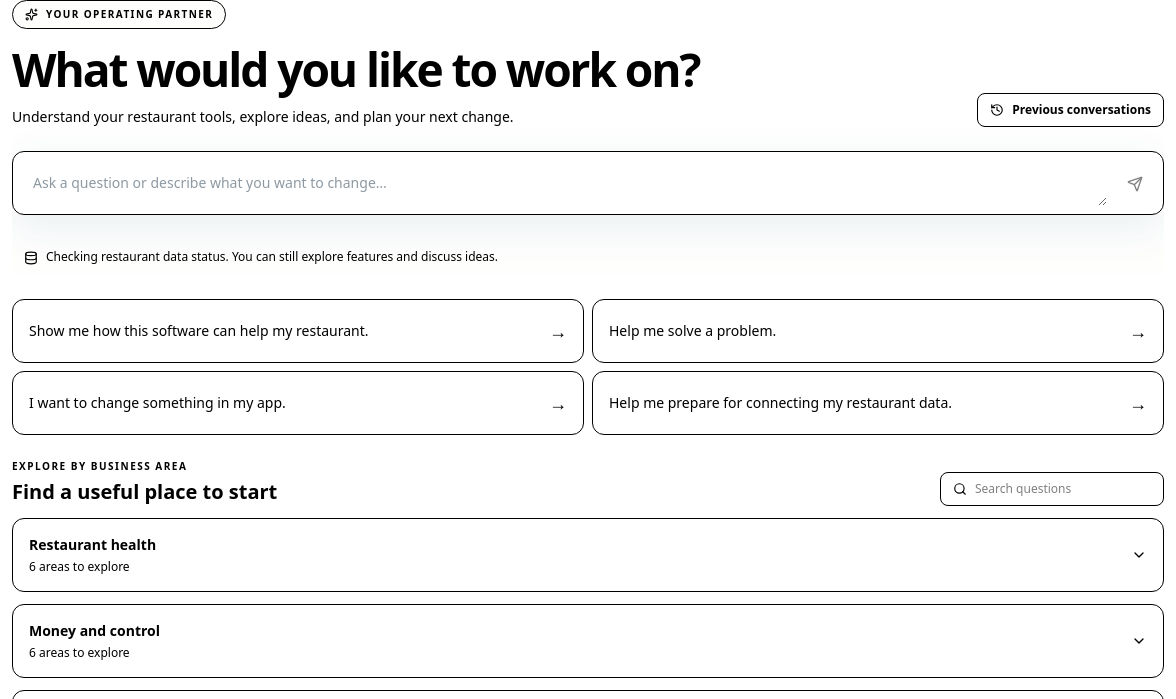
Test case: owner OS without restaurant data › keeps the draft and retries the same turn without duplicating it
Type "Which ingredients are running low?" into the text box named "Ask or describe a change". click: (564, 183)
box: [21,160,1107,206]
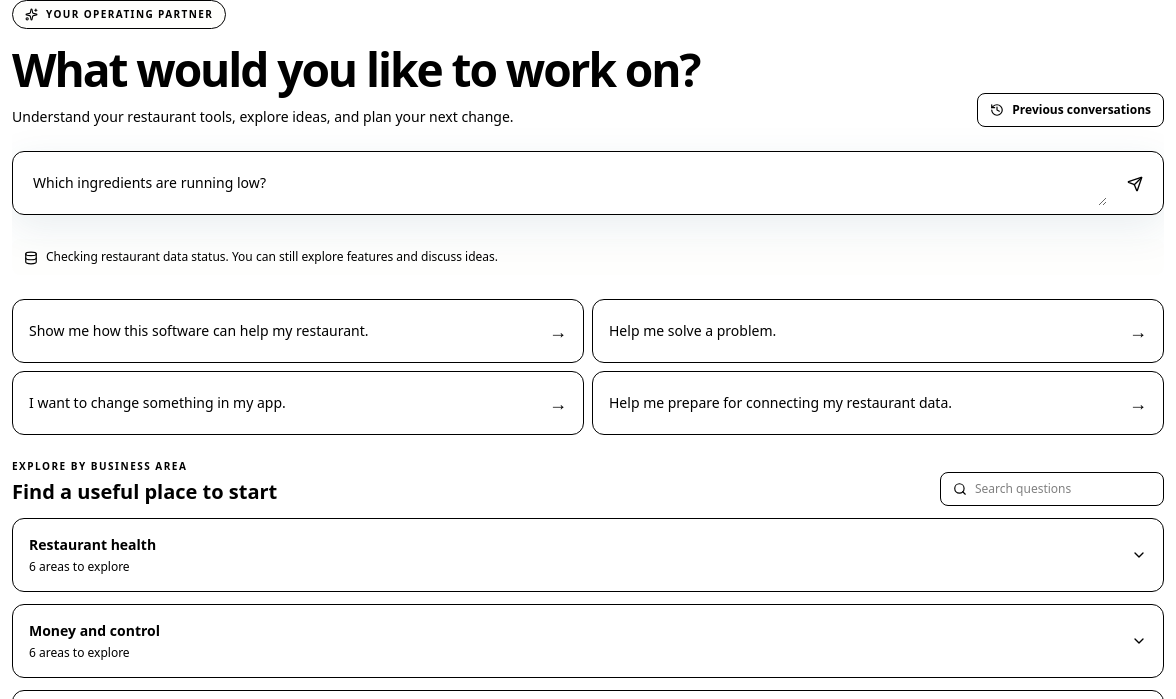
Click the button named "Send question". click: (1135, 184)
box: [1115,164,1155,204]
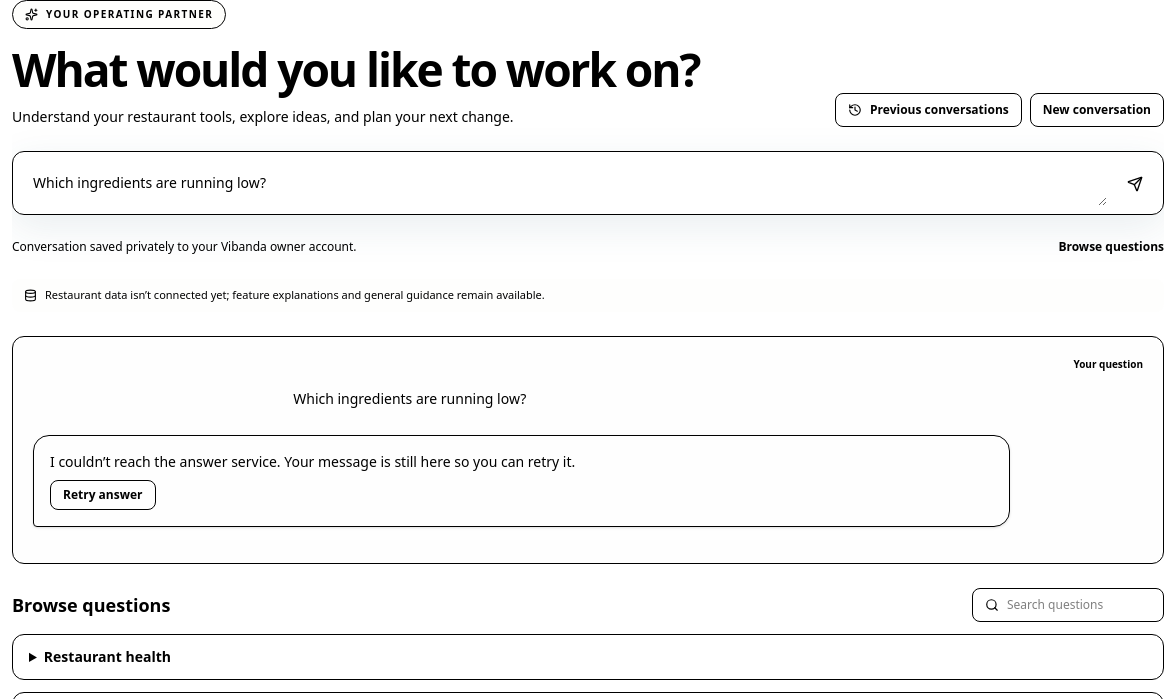
Expected: the button "Retry answer" is shown
Click the button "Retry answer". click: (103, 495)
box: [50,480,156,510]
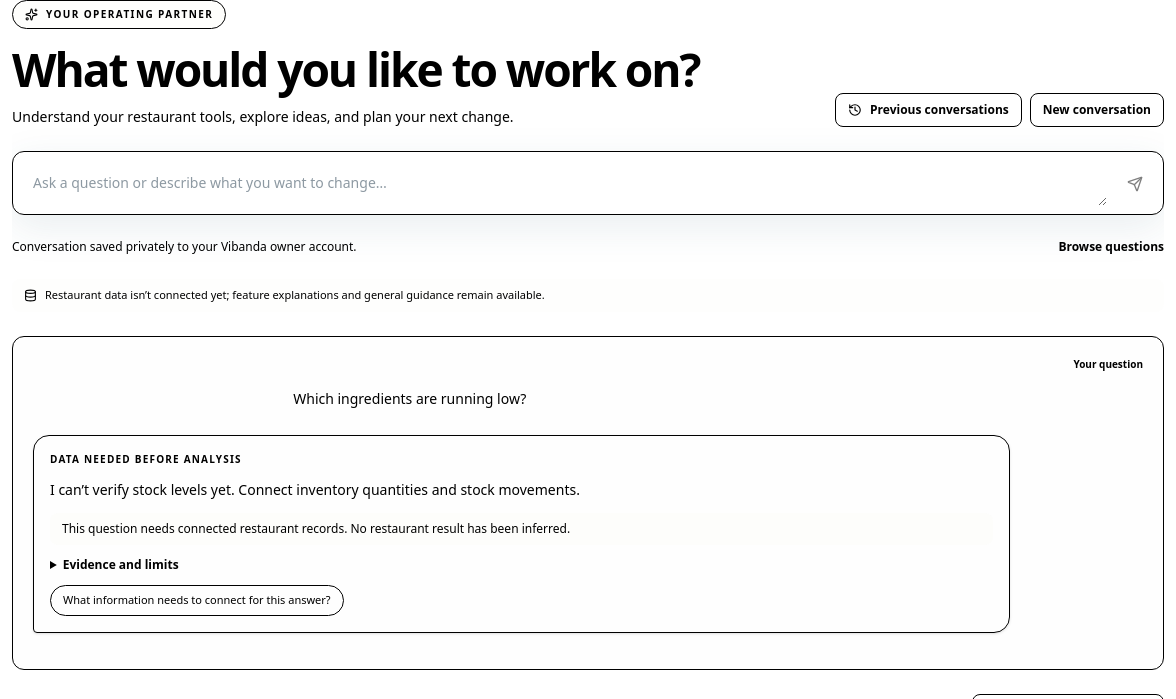
Expected: the text "Which ingredients are running low?" is shown once, [293,389,526,408]
Expected: the text "I can’t verify stock levels yet. Connect inventory quantities and stock movements." is shown, [50,480,580,499]
